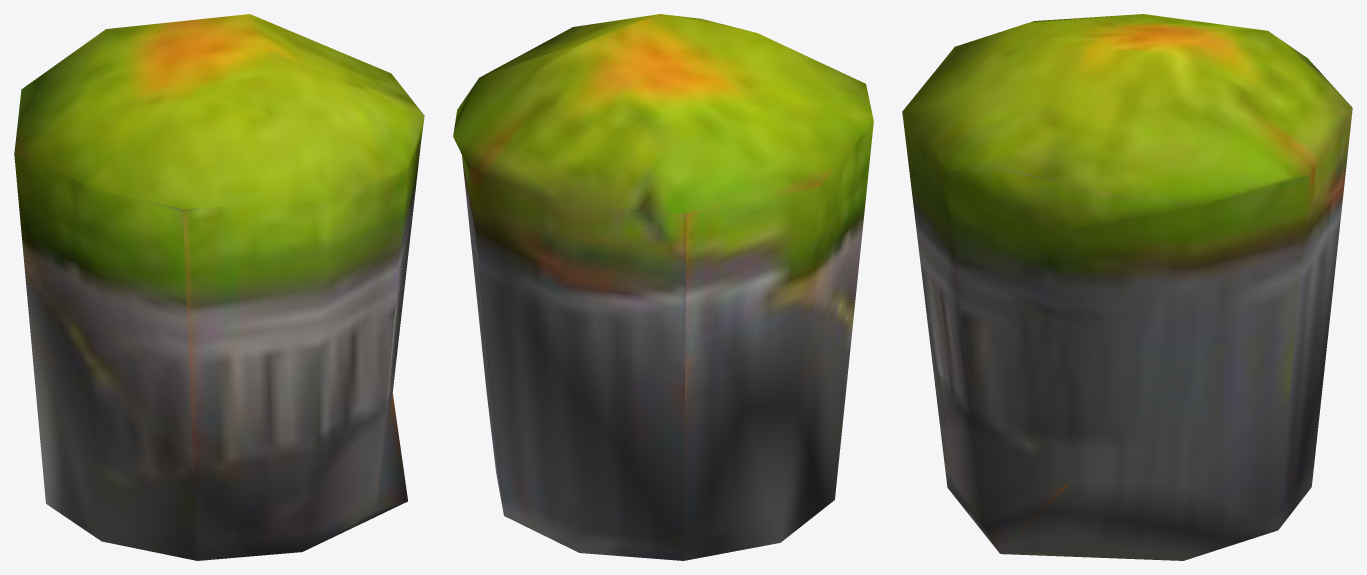
The model's file is trashcan.fbx.
3 renders of one model, left to right at view 1: azimuth 30°, elevation 25°; view 2: azimuth 150°, elevation 25°; view 3: azimuth 270°, elevation 25°, orthographic. The views are drawn at different scales.
Parts seen in each view (by area): view 1: Mesh_0.003; view 2: Mesh_0.003; view 3: Mesh_0.003.
Boxes of the visible parts, x1,y1,x2,y2 form: Mesh_0.003: (14, 14, 424, 560); Mesh_0.003: (453, 14, 873, 560); Mesh_0.003: (902, 14, 1352, 560).
Size of the model in its own units: 61.8 by 73.7 by 64.94.
